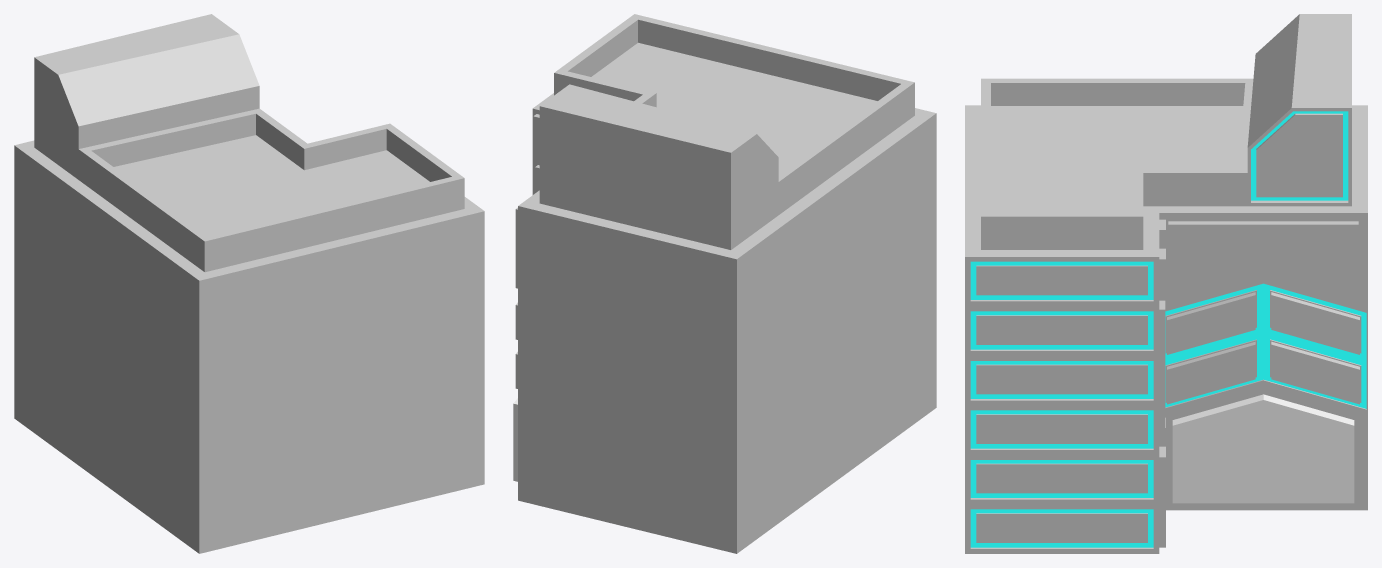
File: building-l3.glb
The picture shows the model from 3 angles, left to right: view 1: azimuth 30°, elevation 25°; view 2: azimuth 150°, elevation 25°; view 3: azimuth 270°, elevation 25°; orthographic projection. The views are drawn at different scales.
Visible parts, largest first — view 1: Cube.021; view 2: Cube.021; view 3: Cube.021.
Part boxes in pixels (x1,y1,x2,y2): Cube.021: (14, 14, 484, 553); Cube.021: (513, 14, 936, 553); Cube.021: (965, 14, 1367, 553).
Size of the model in its own units: 18.24 by 22.2 by 20.5.
